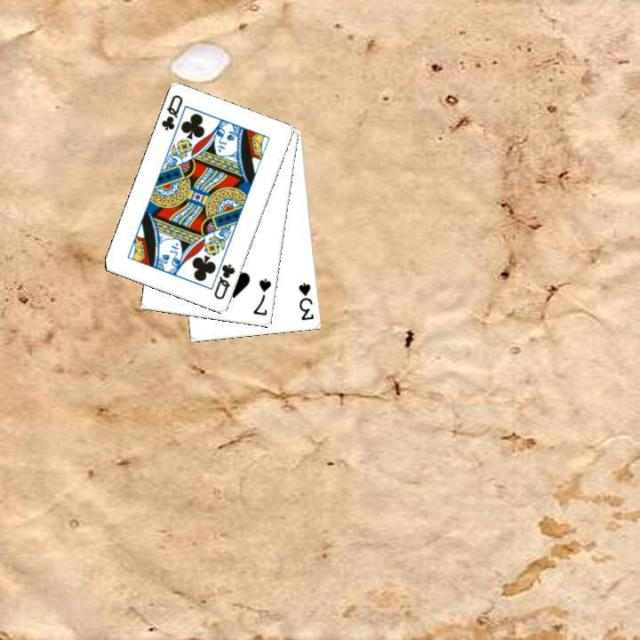3S: (295, 279, 316, 323)
7S: (250, 275, 273, 318)
QC: (157, 90, 185, 132), (210, 260, 237, 302)
